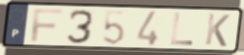3: (66, 8, 96, 45)
4: (135, 9, 160, 48)
5: (101, 9, 128, 46)
F: (29, 7, 64, 43)
K: (203, 12, 233, 49)
L: (169, 11, 195, 47)
